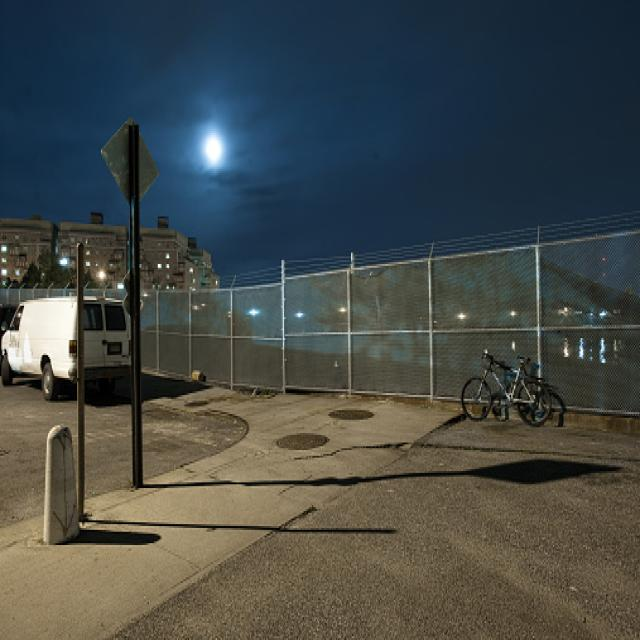Bicycle: (458, 336, 565, 451)
car: (0, 266, 169, 395)
